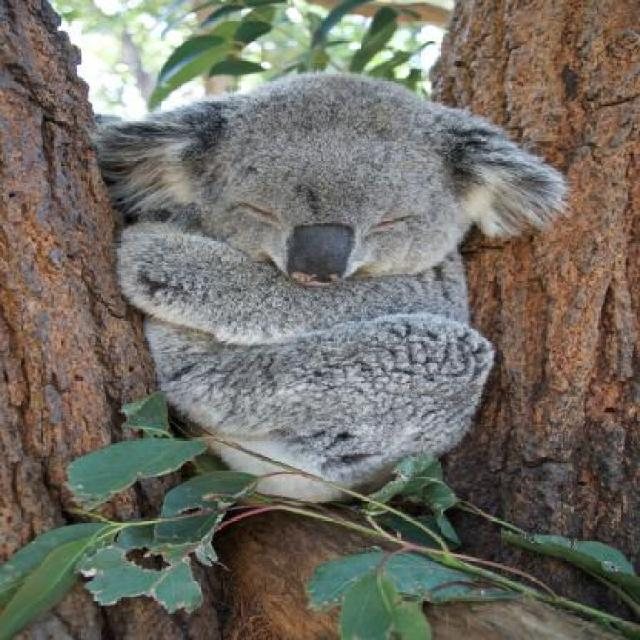Koala: (133, 80, 531, 535)
